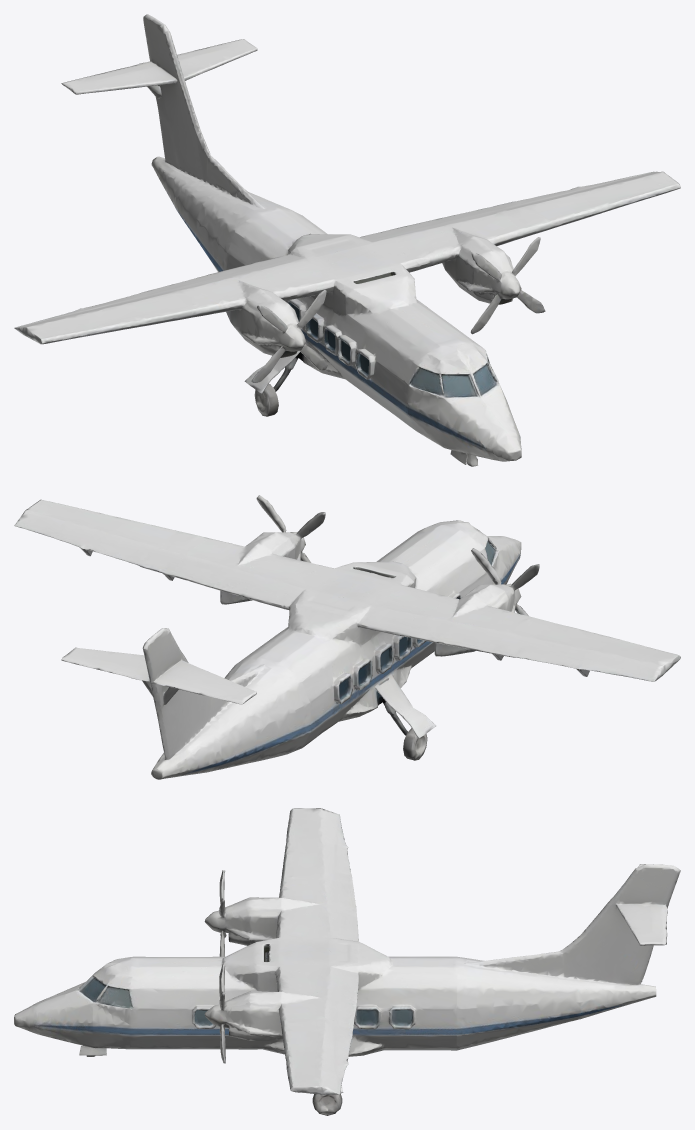
Rendered from aviao_medio.glb.
3 renders of one model, top to bottom at view 1: azimuth 30°, elevation 25°; view 2: azimuth 150°, elevation 25°; view 3: azimuth 270°, elevation 25°, orthographic. The views are drawn at different scales.
Parts seen in each view (by area): view 1: tripo_node_e0cea92e-9f47-4fa0-bf34-080143cc178c; view 2: tripo_node_e0cea92e-9f47-4fa0-bf34-080143cc178c; view 3: tripo_node_e0cea92e-9f47-4fa0-bf34-080143cc178c.
Boxes of the visible parts, left/top/right/bottom form: tripo_node_e0cea92e-9f47-4fa0-bf34-080143cc178c: left=14, top=14, right=680, bottom=466; tripo_node_e0cea92e-9f47-4fa0-bf34-080143cc178c: left=14, top=495, right=680, bottom=779; tripo_node_e0cea92e-9f47-4fa0-bf34-080143cc178c: left=14, top=808, right=680, bottom=1115.
Size of the model in its own units: 19.85 by 7.2 by 20.
Materials: 1 (1 with a texture image).
